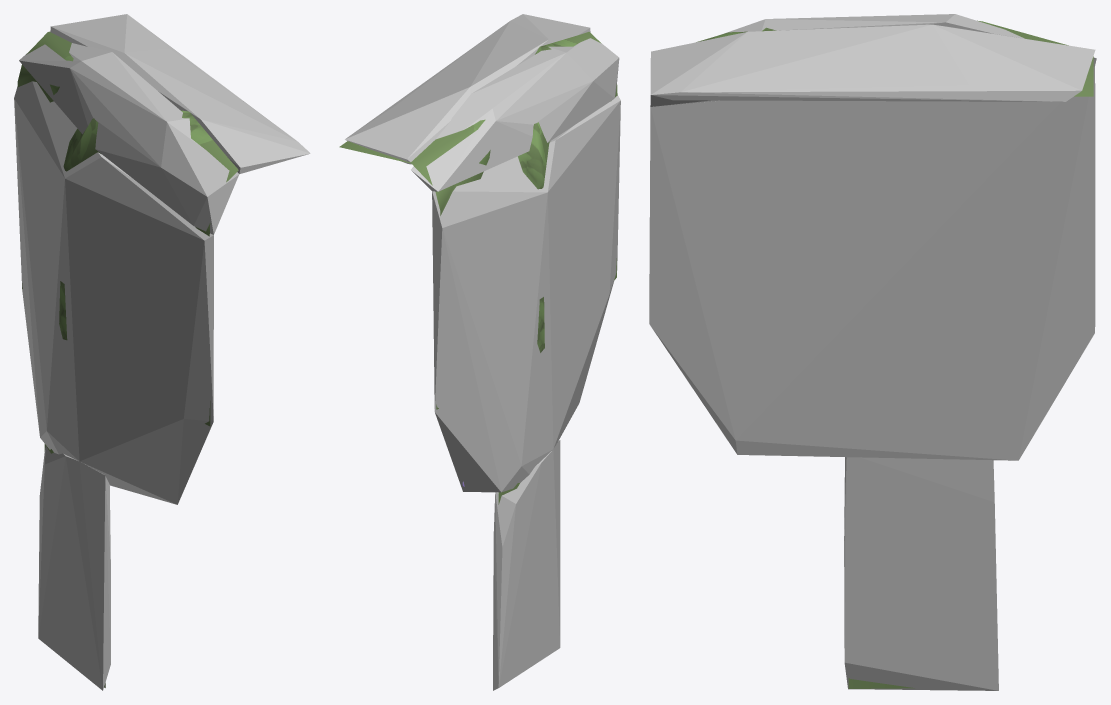
File: SM_Env_Vines_Preset_Overhang_01.fbx
3 views of the same model, side by side, from view 1: azimuth 30°, elevation 25°; view 2: azimuth 150°, elevation 25°; view 3: azimuth 270°, elevation 25° (orthographic). The views are drawn at different scales.
Visible parts, largest first — view 1: SM_Env_Vines_Preset_Overhang_01_ConvexHulls, SM_Env_Vines_Preset_Overhang_01; view 2: SM_Env_Vines_Preset_Overhang_01_ConvexHulls, SM_Env_Vines_Preset_Overhang_01; view 3: SM_Env_Vines_Preset_Overhang_01_ConvexHulls, SM_Env_Vines_Preset_Overhang_01.
Boxes of the visible parts, <box> form: SM_Env_Vines_Preset_Overhang_01_ConvexHulls: <box>14,14,310,690</box>; SM_Env_Vines_Preset_Overhang_01: <box>17,31,238,687</box>; SM_Env_Vines_Preset_Overhang_01_ConvexHulls: <box>345,14,620,690</box>; SM_Env_Vines_Preset_Overhang_01: <box>339,32,617,504</box>; SM_Env_Vines_Preset_Overhang_01_ConvexHulls: <box>649,14,1096,690</box>; SM_Env_Vines_Preset_Overhang_01: <box>696,20,1093,688</box>.
Bounding box in the file's own units: 65.93 × 157 × 270.
Materials: 3 (2 with a texture image).
